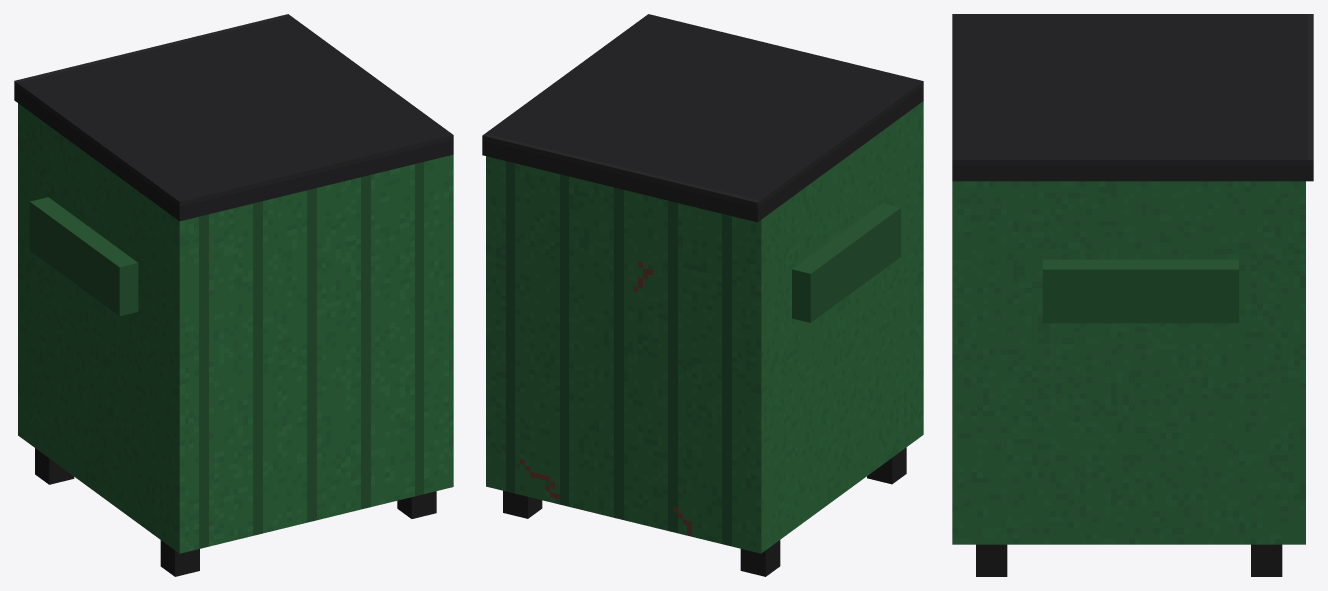
File: f_dumpster.glb
3 renders of one model, left to right at view 1: azimuth 30°, elevation 25°; view 2: azimuth 150°, elevation 25°; view 3: azimuth 270°, elevation 25°, orthographic. The views are drawn at different scales.
Parts seen in each view (by area): view 1: block_body, block_lid-0.44, block_lid0, block_pocket-1, block_wheel-0.420.34, block_wheel0.340.34, block_wheel-0.42-0.36; view 2: block_body, block_lid-0.44, block_lid0, block_pocket-1, block_wheel-0.42-0.36, block_wheel0.34-0.36, block_wheel-0.420.34; view 3: block_body, block_lid0, block_lid-0.44, block_pocket1, block_wheel0.34-0.36, block_wheel0.340.34.
Boxes of the visible parts, box(x1,y1,x2,y2) form: block_body: box(18, 103, 453, 553); block_lid-0.44: box(14, 47, 316, 221); block_lid0: box(151, 14, 453, 187); block_pocket-1: box(29, 197, 138, 316); block_wheel-0.420.34: box(160, 540, 199, 576); block_wheel0.340.34: box(397, 491, 436, 518); block_wheel-0.42-0.36: box(35, 448, 74, 484); block_body: box(486, 101, 923, 553); block_lid-0.44: box(620, 47, 923, 222); block_lid0: box(482, 14, 785, 188); block_pocket-1: box(792, 203, 900, 322); block_wheel-0.42-0.36: box(740, 540, 780, 576); block_wheel0.34-0.36: box(503, 491, 542, 518); block_wheel-0.420.34: box(867, 447, 906, 484); block_body: box(952, 181, 1305, 544); block_lid0: box(952, 87, 1313, 181); block_lid-0.44: box(952, 14, 1313, 86); block_pocket1: box(1042, 259, 1238, 323); block_wheel0.34-0.36: box(1251, 544, 1282, 576); block_wheel0.340.34: box(976, 544, 1007, 576).
Bounding box in the file's own units: 1 × 1.18 × 0.92.
Materials: 2 (2 with a texture image).
